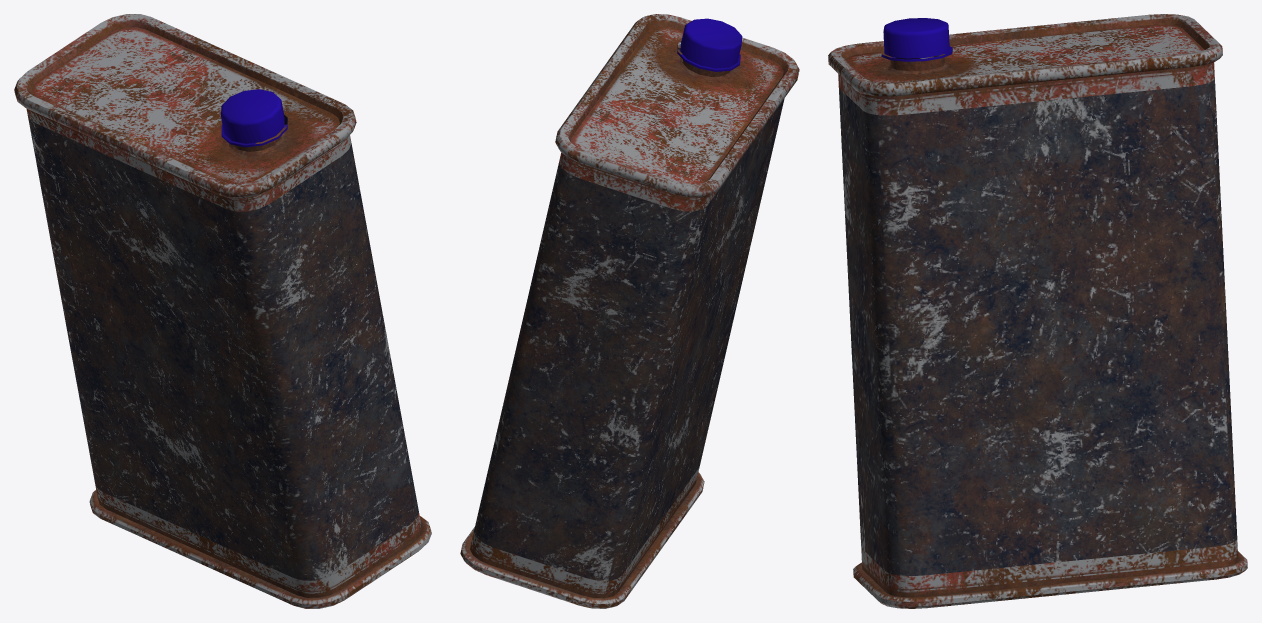
The model's file is MotorOilCan.fbx.
The picture shows the model from 3 angles, left to right: view 1: azimuth 30°, elevation 25°; view 2: azimuth 150°, elevation 25°; view 3: azimuth 270°, elevation 25°; orthographic projection. The views are drawn at different scales.
Parts seen in each view (by area): view 1: MotorOil_low; view 2: MotorOil_low; view 3: MotorOil_low.
Boxes of the visible parts, <box> form: MotorOil_low: <box>14,14,431,608</box>; MotorOil_low: <box>460,14,799,608</box>; MotorOil_low: <box>828,14,1247,608</box>.
Size of the model in its own units: 21662 by 35485 by 25294.
